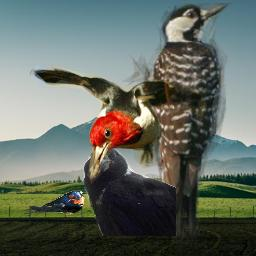Crow: (82, 145, 176, 236)
Swallow: (23, 190, 85, 215)
Woodpecker: (122, 3, 233, 256), (23, 58, 207, 184)
